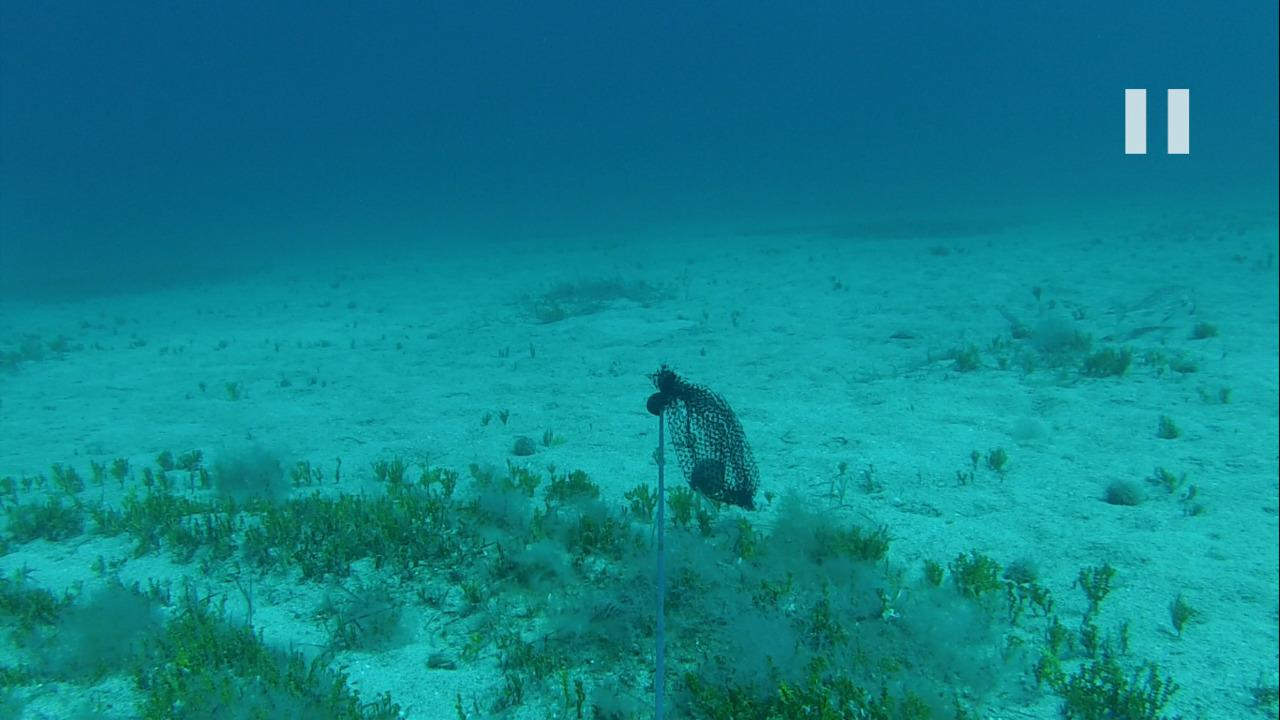dactylopterus: (1109, 278, 1197, 323)
